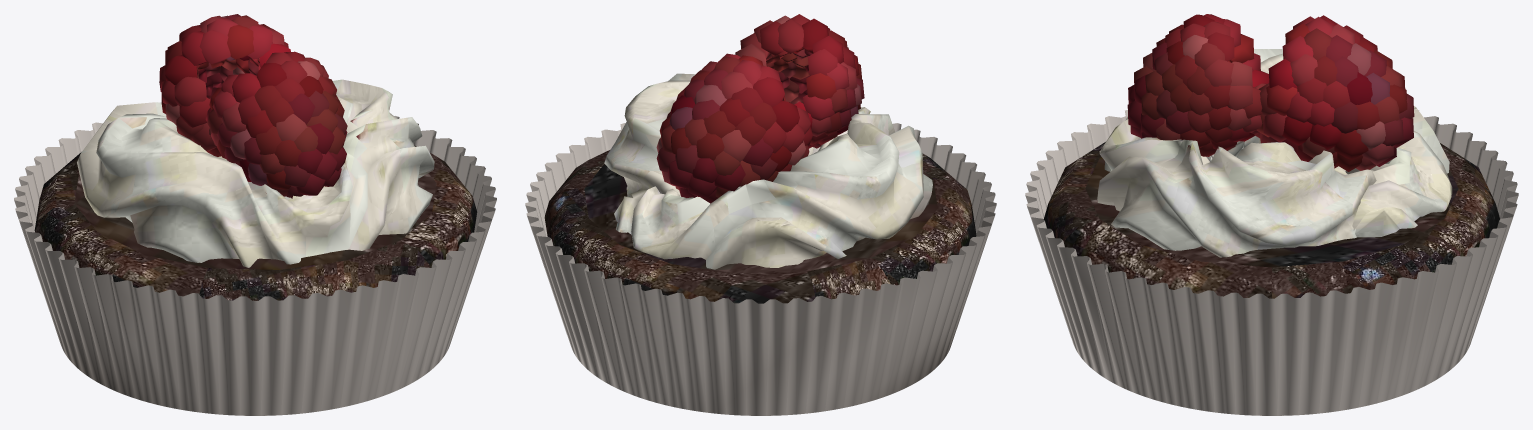
Rendered from mud cake.glb.
3 views of the same model, side by side, from view 1: azimuth 30°, elevation 25°; view 2: azimuth 150°, elevation 25°; view 3: azimuth 270°, elevation 25° (orthographic). The views are drawn at different scales.
Parts seen in each view (by area): view 1: Small cake wrapper, Whipped cream, Mud cake base, Raspberry.001, Raspberry; view 2: Small cake wrapper, Whipped cream, Mud cake base, Raspberry, Raspberry.001; view 3: Small cake wrapper, Whipped cream, Mud cake base, Raspberry, Raspberry.001.
Part boxes in pixels (x1=…): Small cake wrapper: x1=14, y1=116, x2=496, y2=415; Whipped cream: x1=77, y1=79, x2=434, y2=267; Mud cake base: x1=34, y1=145, x2=477, y2=300; Raspberry.001: x1=205, y1=51, x2=347, y2=198; Raspberry: x1=159, y1=14, x2=290, y2=156; Small cake wrapper: x1=525, y1=123, x2=996, y2=415; Whipped cream: x1=604, y1=73, x2=932, y2=269; Mud cake base: x1=544, y1=150, x2=976, y2=303; Raspberry: x1=656, y1=53, x2=812, y2=203; Raspberry.001: x1=735, y1=14, x2=864, y2=148; Small cake wrapper: x1=1025, y1=110, x2=1518, y2=415; Whipped cream: x1=1097, y1=49, x2=1452, y2=257; Mud cake base: x1=1044, y1=142, x2=1499, y2=298; Raspberry: x1=1254, y1=15, x2=1414, y2=171; Raspberry.001: x1=1127, y1=14, x2=1269, y2=156.
Bounding box in the file's own units: 0.0785 × 0.0542 × 0.0785.
4 materials, 4 textured.
